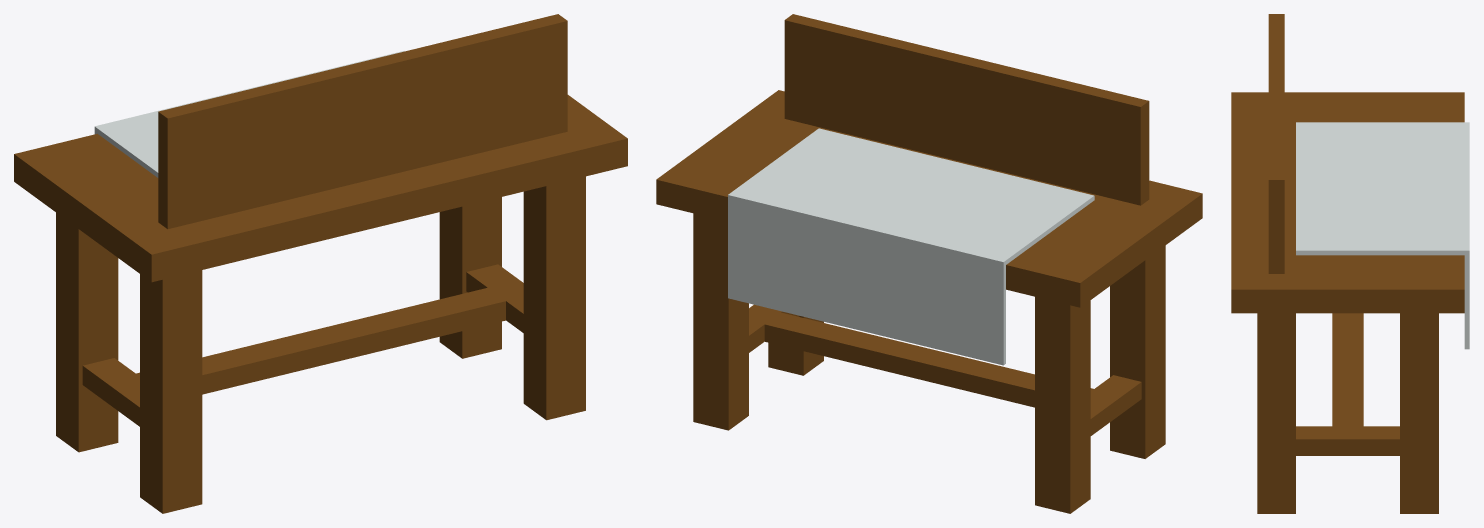
The model's file is BaseCraft.fbx.
The picture shows the model from 3 angles, left to right: view 1: azimuth 30°, elevation 25°; view 2: azimuth 150°, elevation 25°; view 3: azimuth 270°, elevation 25°; orthographic projection. The views are drawn at different scales.
Visible parts, largest first — view 1: Crafting; view 2: Crafting; view 3: Crafting.
Boxes of the visible parts, x1,y1,x2,y2 form: Crafting: (14,14,627,513); Crafting: (656,14,1202,513); Crafting: (1231,14,1469,513).
Bounding box in the file's own units: 180 × 140 × 91.9.
